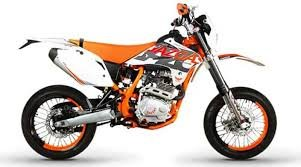motor: (15, 7, 278, 162)
